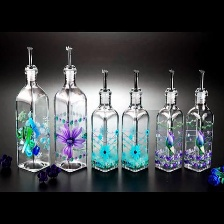bottle: (15, 60, 52, 173), (52, 63, 90, 173), (117, 85, 151, 174), (181, 85, 214, 173), (152, 85, 184, 171), (90, 85, 120, 172)
